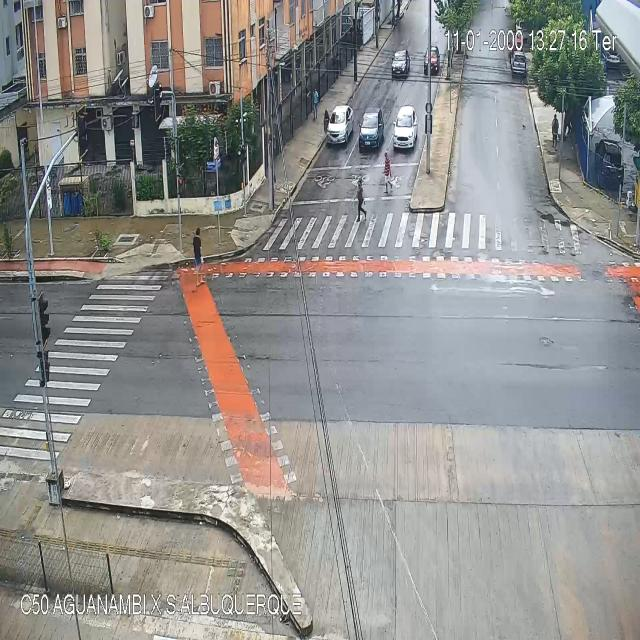Car: (358, 107, 384, 148), (393, 106, 418, 148), (326, 104, 353, 142), (424, 46, 440, 75), (391, 51, 409, 75), (511, 52, 526, 75)
